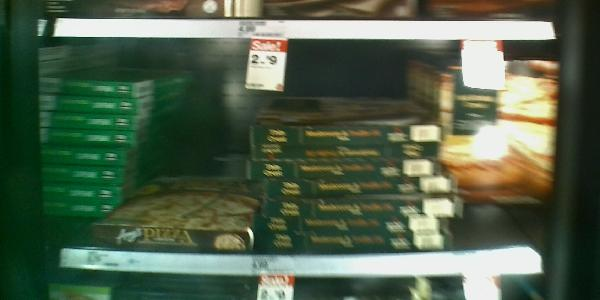pizza: (444, 67, 550, 215)
pizza1: (251, 125, 445, 157), (98, 222, 253, 255), (263, 198, 464, 219), (245, 157, 440, 177), (264, 232, 444, 252), (263, 218, 439, 237), (39, 77, 151, 102), (262, 182, 459, 195), (37, 93, 143, 116), (38, 128, 145, 150), (35, 111, 143, 128), (41, 167, 120, 188), (39, 150, 131, 165), (43, 188, 122, 205), (41, 204, 106, 222)
